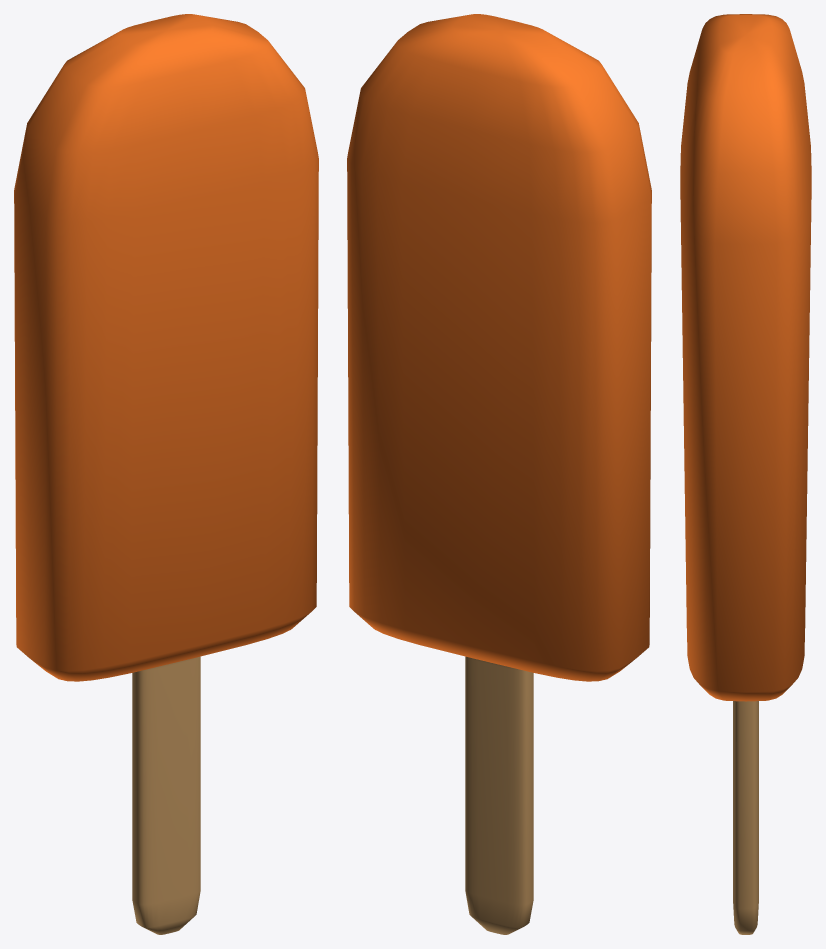
Rendered from NEW_RECOVERY_015_LOD1.fbx.
3 views of the same model, side by side, from view 1: azimuth 30°, elevation 25°; view 2: azimuth 150°, elevation 25°; view 3: azimuth 270°, elevation 25° (orthographic).
Parts seen in each view (by area): view 1: Popsicle; view 2: Popsicle; view 3: Popsicle.
Part boxes in pixels (box(x1,y1,x2,y2)): Popsicle: box(14, 14, 318, 934); Popsicle: box(347, 14, 651, 934); Popsicle: box(680, 14, 811, 934).
Bounding box in the file's own units: 4.8 × 2 × 15.
